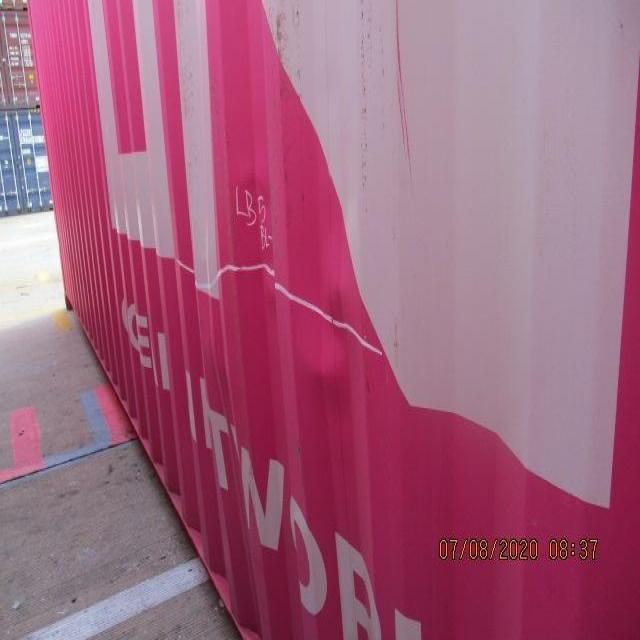dent: (170, 153, 373, 489)
